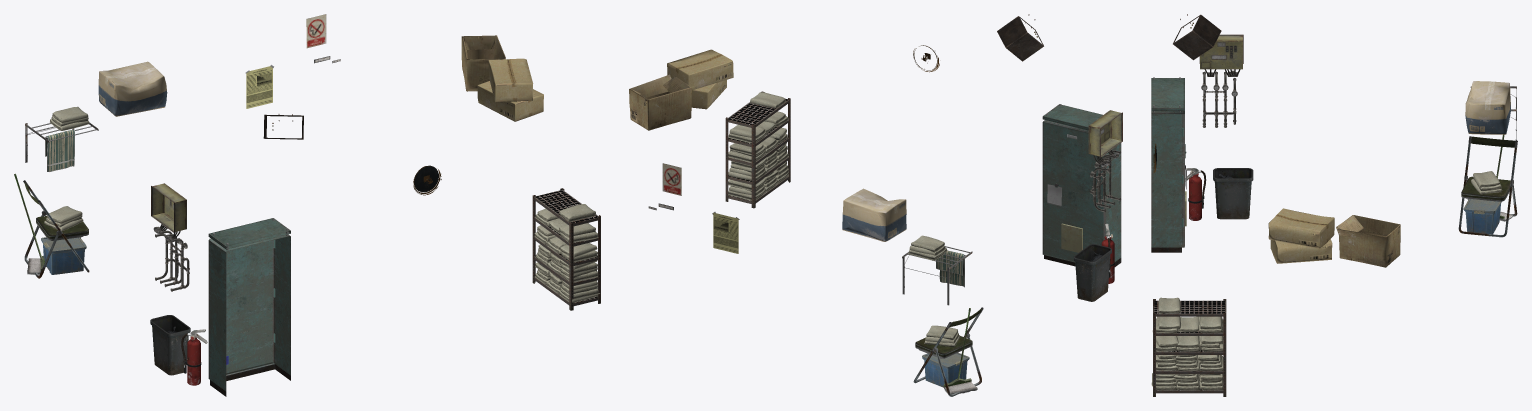
The model's file is sm301_01_403room_02.fbx.
3 renders of one model, left to right at view 1: azimuth 30°, elevation 25°; view 2: azimuth 150°, elevation 25°; view 3: azimuth 270°, elevation 25°, orthographic. The views are drawn at different scales.
Visible parts, largest first — view 1: 0049_sm22021SwitchBox03A00ms_1_Group_0_Sub_1__sm22_021__cfdd, 0031_sm39049SteelRackSet01A00ms_1_Group_0_Sub_1__sm36_0_c9d2, 0101_sm36003Cardboard02A00ms_1_Group_0_Sub_1__sm36_003__20c4, 0125_sm36004Cardboard03A00ms_1_Group_0_Sub_1__sm36_004__7cc7, 0047_sm30091Steelrack01A00ms_1_Group_0_Sub_1__sm30_091__18cd, 0035_sm30071Dustbox01A00ms_1_Group_0_Sub_1__sm30_071_Du_9d55, 0126_sm36002Cardboard01A00ms_1_Group_0_Sub_1__sm36_002__50cb, 0102_sm22018Switchboard09A00ms_1_Group_0_Sub_1__sm22_01_b774, 0030_sm36029BathTowel01A00ms_1_Group_0_Sub_1__sm36_029__2311, 0042_sm30074PlasticBox01A00ms_1_Group_0_Sub_1__sm30_074_9cb3, 0015_st44030Terrain00ms_1_Group_0_Sub_16__st2_police2fL_1edf, 0029_sm36028Towel01A00ms_1_Group_0_Sub_1__sm36_028_Towe_bb50 (+4 smaller); view 2: 0049_sm22021SwitchBox03A00ms_1_Group_0_Sub_1__sm22_021__cfdd, 0031_sm39049SteelRackSet01A00ms_1_Group_0_Sub_1__sm36_0_c9d2, 0126_sm36002Cardboard01A00ms_1_Group_0_Sub_1__sm36_002__50cb, 0047_sm30091Steelrack01A00ms_1_Group_0_Sub_1__sm30_091__18cd, 0101_sm36003Cardboard02A00ms_1_Group_0_Sub_1__sm36_003__20c4, 0125_sm36004Cardboard03A00ms_1_Group_0_Sub_1__sm36_004__7cc7, 0035_sm30071Dustbox01A00ms_1_Group_0_Sub_1__sm30_071_Du_9d55, 0102_sm22018Switchboard09A00ms_1_Group_0_Sub_1__sm22_01_b774, 0030_sm36029BathTowel01A00ms_1_Group_0_Sub_1__sm36_029__2311, 0032_sm31018Speaker01A00ms_1_Group_0_Sub_1__sm31_018_Sp_861f, 0042_sm30074PlasticBox01A00ms_1_Group_0_Sub_1__sm30_074_9cb3, 0015_st44030Terrain00ms_1_Group_0_Sub_16__st2_police2fL_1edf (+6 smaller); view 3: 0049_sm22021SwitchBox03A00ms_1_Group_0_Sub_1__sm22_021__cfdd, 0031_sm39049SteelRackSet01A00ms_1_Group_0_Sub_1__sm36_0_c9d2, 0125_sm36004Cardboard03A00ms_1_Group_0_Sub_1__sm36_004__7cc7, 0126_sm36002Cardboard01A00ms_1_Group_0_Sub_1__sm36_002__50cb, 0047_sm30091Steelrack01A00ms_1_Group_0_Sub_1__sm30_091__18cd, 0101_sm36003Cardboard02A00ms_1_Group_0_Sub_1__sm36_003__20c4, 0035_sm30071Dustbox01A00ms_1_Group_0_Sub_1__sm30_071_Du_9d55, 0102_sm22018Switchboard09A00ms_1_Group_0_Sub_1__sm22_01_b774, 0032_sm31018Speaker01A00ms_1_Group_0_Sub_1__sm31_018_Sp_861f, 0042_sm30074PlasticBox01A00ms_1_Group_0_Sub_1__sm30_074_9cb3, 0103_sm22018Switchboard09A00ms_1_Group_1_Sub_1__sm22_01_3409, 0034_sm21009FireExtinguisher01A00ms_1_Group_0_Sub_1__sm_2cfb (+4 smaller).
Part boxes in pixels (x1,y1,x2,y2): 0049_sm22021SwitchBox03A00ms_1_Group_0_Sub_1__sm22_021__cfdd: (208, 218, 290, 396); 0031_sm39049SteelRackSet01A00ms_1_Group_0_Sub_1__sm36_0_c9d2: (534, 204, 599, 302); 0101_sm36003Cardboard02A00ms_1_Group_0_Sub_1__sm36_003__20c4: (98, 61, 167, 116); 0125_sm36004Cardboard03A00ms_1_Group_0_Sub_1__sm36_004__7cc7: (477, 58, 543, 121); 0047_sm30091Steelrack01A00ms_1_Group_0_Sub_1__sm30_091__18cd: (532, 188, 600, 310); 0035_sm30071Dustbox01A00ms_1_Group_0_Sub_1__sm30_071_Du_9d55: (150, 315, 190, 375); 0126_sm36002Cardboard01A00ms_1_Group_0_Sub_1__sm36_002__50cb: (461, 35, 505, 91); 0102_sm22018Switchboard09A00ms_1_Group_0_Sub_1__sm22_01_b774: (151, 183, 186, 232); 0030_sm36029BathTowel01A00ms_1_Group_0_Sub_1__sm36_029__2311: (44, 106, 89, 231); 0042_sm30074PlasticBox01A00ms_1_Group_0_Sub_1__sm30_074_9cb3: (41, 237, 86, 274); 0015_st44030Terrain00ms_1_Group_0_Sub_16__st2_police2fL_1edf: (245, 56, 340, 108); 0029_sm36028Towel01A00ms_1_Group_0_Sub_1__sm36_028_Towe_bb50: (45, 129, 74, 171); 0049_sm22021SwitchBox03A00ms_1_Group_0_Sub_1__sm22_021__cfdd: (1042, 104, 1121, 266); 0031_sm39049SteelRackSet01A00ms_1_Group_0_Sub_1__sm36_0_c9d2: (728, 92, 789, 200); 0126_sm36002Cardboard01A00ms_1_Group_0_Sub_1__sm36_002__50cb: (629, 74, 691, 130); 0047_sm30091Steelrack01A00ms_1_Group_0_Sub_1__sm30_091__18cd: (725, 91, 790, 208); 0101_sm36003Cardboard02A00ms_1_Group_0_Sub_1__sm36_003__20c4: (842, 188, 906, 241); 0125_sm36004Cardboard03A00ms_1_Group_0_Sub_1__sm36_004__7cc7: (667, 49, 733, 109); 0035_sm30071Dustbox01A00ms_1_Group_0_Sub_1__sm30_071_Du_9d55: (1073, 244, 1111, 301); 0102_sm22018Switchboard09A00ms_1_Group_0_Sub_1__sm22_01_b774: (1088, 110, 1122, 157); 0030_sm36029BathTowel01A00ms_1_Group_0_Sub_1__sm36_029__2311: (908, 235, 960, 346); 0032_sm31018Speaker01A00ms_1_Group_0_Sub_1__sm31_018_Sp_861f: (997, 16, 1043, 61); 0042_sm30074PlasticBox01A00ms_1_Group_0_Sub_1__sm30_074_9cb3: (922, 352, 969, 387); 0015_st44030Terrain00ms_1_Group_0_Sub_16__st2_police2fL_1edf: (648, 203, 739, 253); 0049_sm22021SwitchBox03A00ms_1_Group_0_Sub_1__sm22_021__cfdd: (1151, 77, 1186, 252); 0031_sm39049SteelRackSet01A00ms_1_Group_0_Sub_1__sm36_0_c9d2: (1151, 297, 1223, 390); 0125_sm36004Cardboard03A00ms_1_Group_0_Sub_1__sm36_004__7cc7: (1268, 208, 1334, 263); 0126_sm36002Cardboard01A00ms_1_Group_0_Sub_1__sm36_002__50cb: (1336, 215, 1400, 267); 0047_sm30091Steelrack01A00ms_1_Group_0_Sub_1__sm30_091__18cd: (1153, 299, 1226, 396); 0101_sm36003Cardboard02A00ms_1_Group_0_Sub_1__sm36_003__20c4: (1465, 81, 1510, 134); 0035_sm30071Dustbox01A00ms_1_Group_0_Sub_1__sm30_071_Du_9d55: (1213, 168, 1253, 219); 0102_sm22018Switchboard09A00ms_1_Group_0_Sub_1__sm22_01_b774: (1199, 34, 1243, 69); 0032_sm31018Speaker01A00ms_1_Group_0_Sub_1__sm31_018_Sp_861f: (1173, 14, 1221, 60); 0042_sm30074PlasticBox01A00ms_1_Group_0_Sub_1__sm30_074_9cb3: (1463, 199, 1501, 234); 0103_sm22018Switchboard09A00ms_1_Group_1_Sub_1__sm22_01_3409: (1202, 69, 1240, 127); 0034_sm21009FireExtinguisher01A00ms_1_Group_0_Sub_1__sm_2cfb: (1185, 168, 1206, 220).
Bounding box in the file's own units: 6.14 × 3.53 × 4.83.
